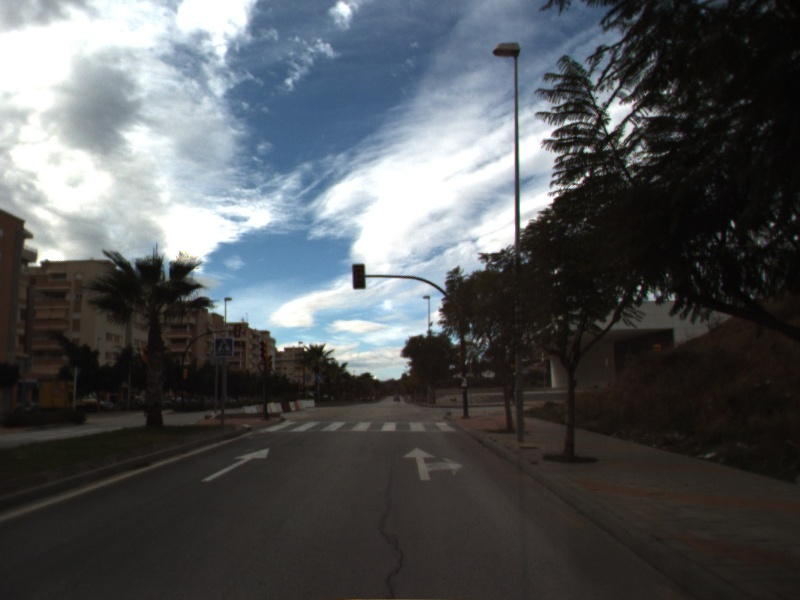STRAIGHT: (200, 446, 271, 483)
STRAIGHT_RIGHT: (402, 445, 465, 483)
